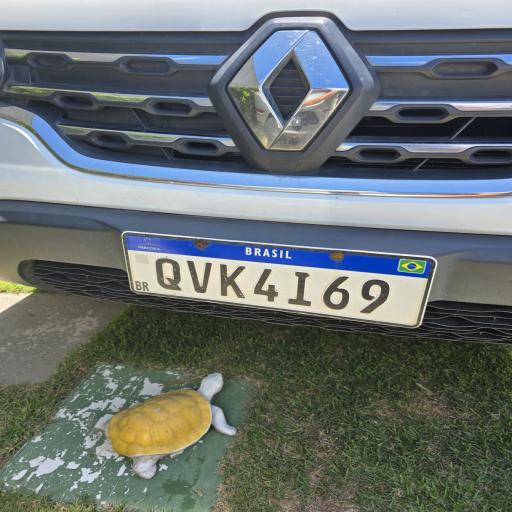Caractere: (360, 278, 390, 314), (219, 263, 247, 299), (322, 276, 351, 310), (155, 258, 183, 292), (286, 271, 312, 307), (186, 260, 213, 294), (254, 268, 279, 302)
Placa: (121, 231, 439, 329)
